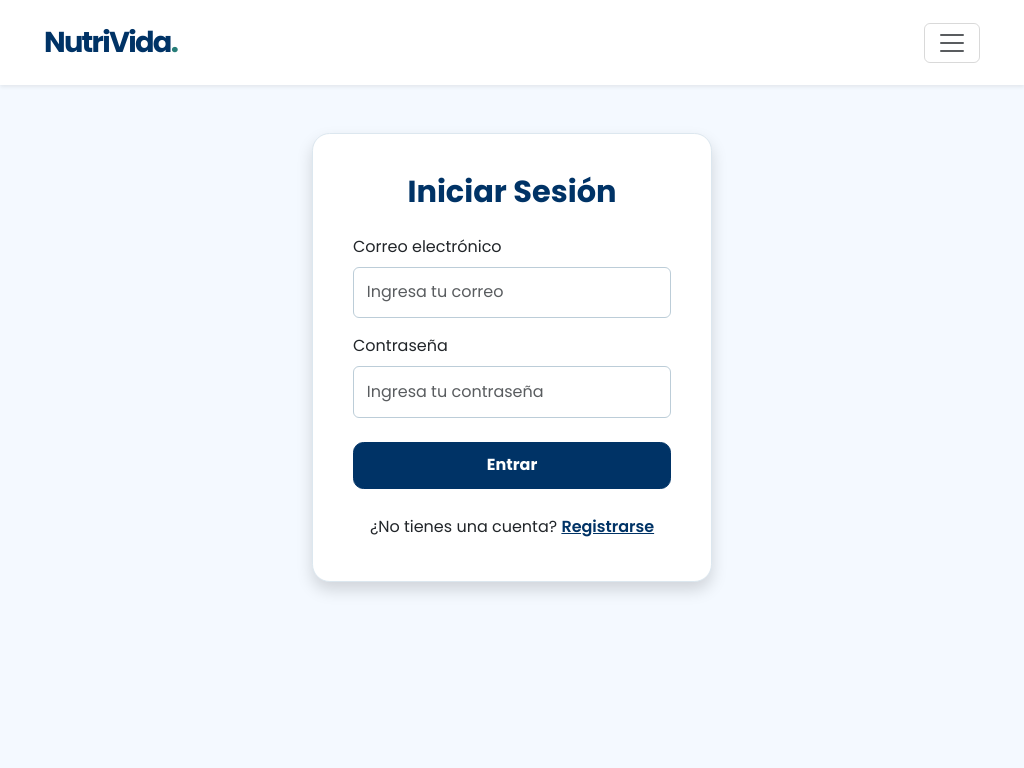
Scenario: Sesión y navegación › rechaza credenciales incorrectas
Type "otro@gmail.com" into the field labelled "Correo electrónico" at (512, 292), box 353,267 -> 671,318
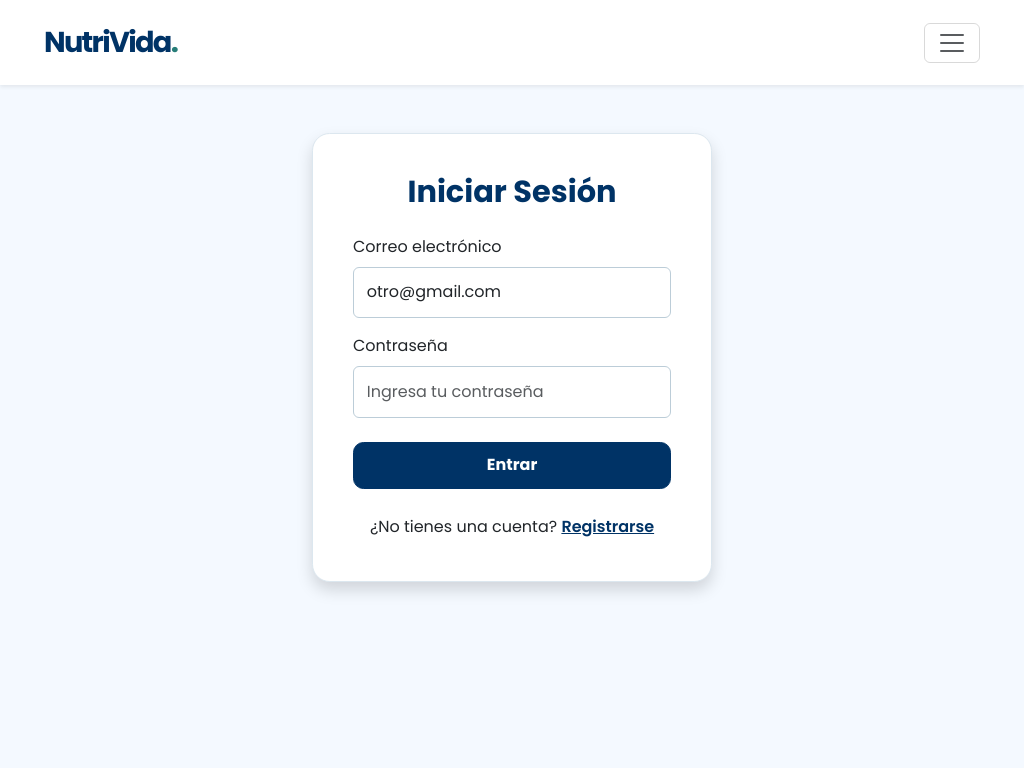
Type "incorrecta" into the password field labelled "Contraseña" at (512, 392), box 353,366 -> 671,418
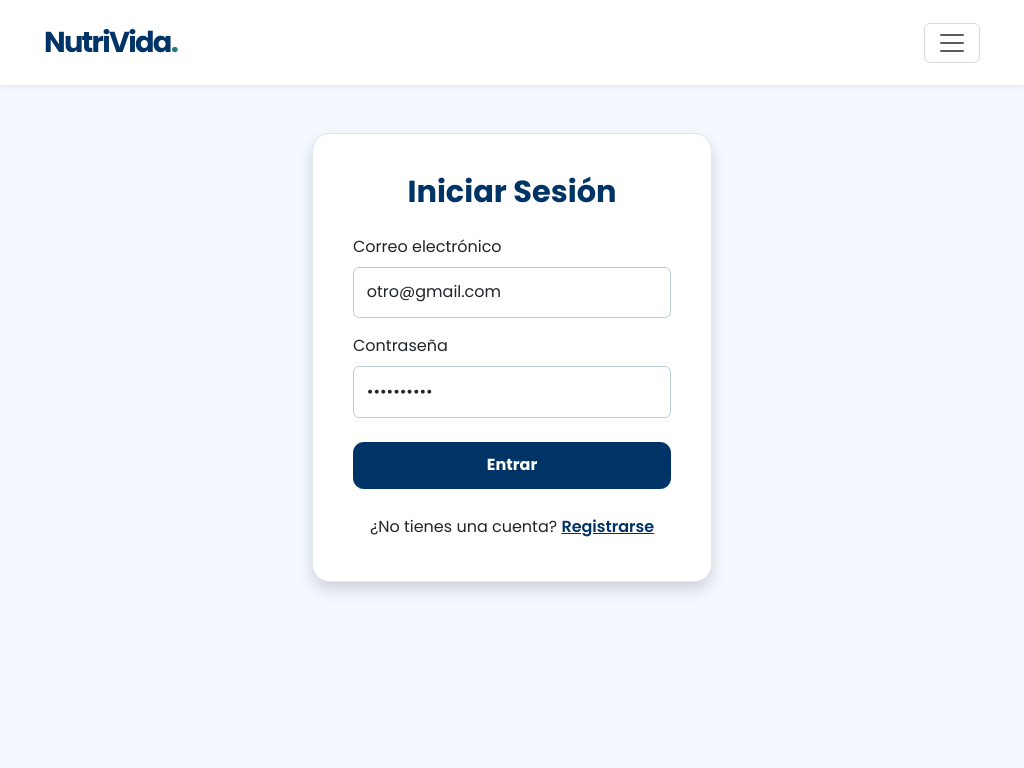
Click the button "Entrar" at (512, 465), box 353,442 -> 671,489
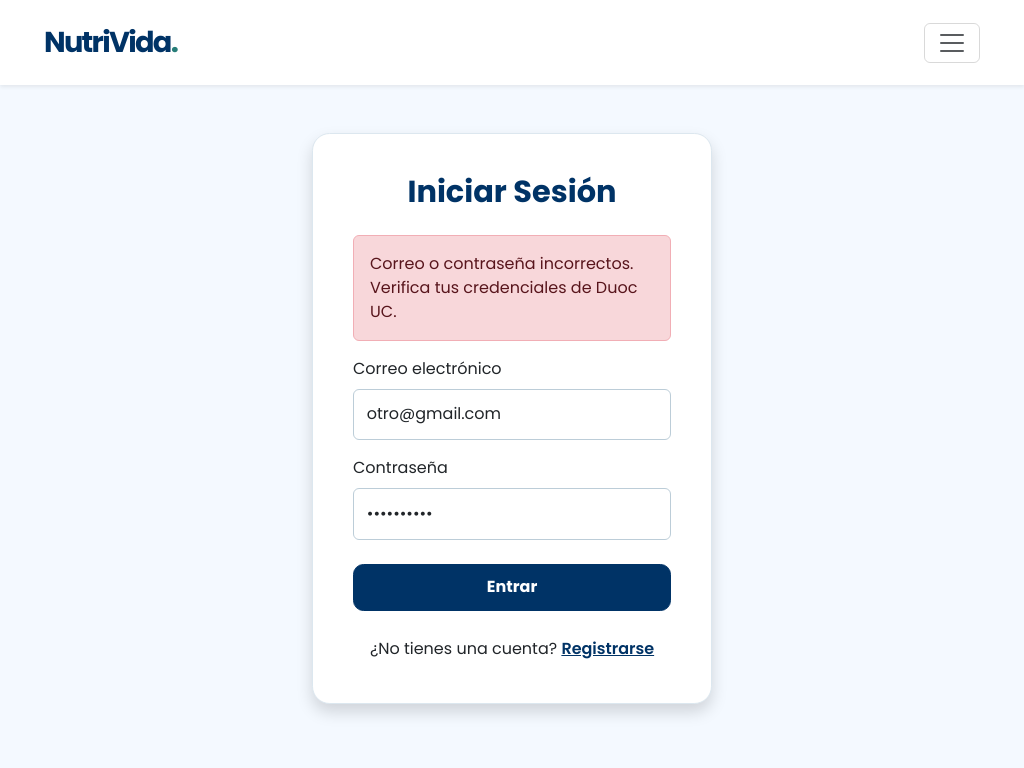
Expected: the message shows "Correo o contraseña incorrectos", 370,252 -> 637,323
